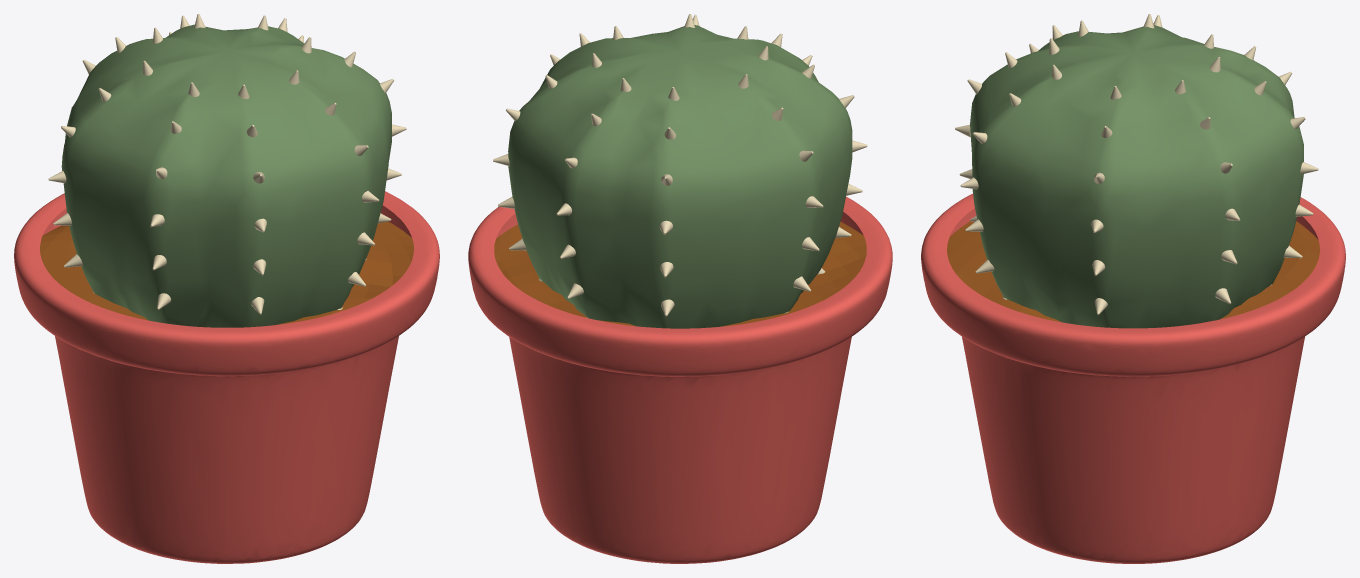
The model's file is cactus.glb.
3 renders of one model, left to right at view 1: azimuth 30°, elevation 25°; view 2: azimuth 150°, elevation 25°; view 3: azimuth 270°, elevation 25°, orthographic.
Parts seen in each view (by area): view 1: pot, cactus, ground, Cylinder.007, Cylinder.009, Cylinder.004, Cylinder.005, Cylinder.017; view 2: cactus, pot, ground, Cylinder.009, Cylinder.011, Cylinder.013, Cylinder.015, Cylinder.007; view 3: cactus, pot, ground, Cylinder.004, Cylinder.013, Cylinder.015, Cylinder.017, Cylinder.005.
Boxes of the visible parts, x1=… form: pot: x1=14, y1=191, x2=439, y2=563; cactus: x1=61, y1=24, x2=391, y2=327; ground: x1=40, y1=221, x2=413, y2=324; Cylinder.007: x1=150, y1=82, x2=199, y2=309; Cylinder.009: x1=48, y1=60, x2=152, y2=293; Cylinder.004: x1=289, y1=70, x2=379, y2=309; Cylinder.005: x1=238, y1=84, x2=266, y2=314; Cylinder.017: x1=301, y1=37, x2=406, y2=259; cactus: x1=508, y1=25, x2=852, y2=328; pot: x1=468, y1=196, x2=892, y2=563; ground: x1=494, y1=221, x2=866, y2=326; Cylinder.009: x1=738, y1=74, x2=823, y2=313; Cylinder.011: x1=659, y1=87, x2=679, y2=316; Cylinder.013: x1=556, y1=78, x2=631, y2=317; Cylinder.015: x1=493, y1=53, x2=601, y2=281; Cylinder.007: x1=758, y1=46, x2=867, y2=274; cactus: x1=970, y1=25, x2=1303, y2=328; pot: x1=921, y1=193, x2=1345, y2=563; ground: x1=947, y1=221, x2=1319, y2=322; Cylinder.004: x1=960, y1=64, x2=1061, y2=299; Cylinder.013: x1=1210, y1=57, x2=1318, y2=285; Cylinder.015: x1=1175, y1=80, x2=1240, y2=304; Cylinder.017: x1=1091, y1=86, x2=1121, y2=315; Cylinder.005: x1=955, y1=38, x2=1059, y2=221.
Bounding box in the file's own units: 1.58 × 1.88 × 1.58.
